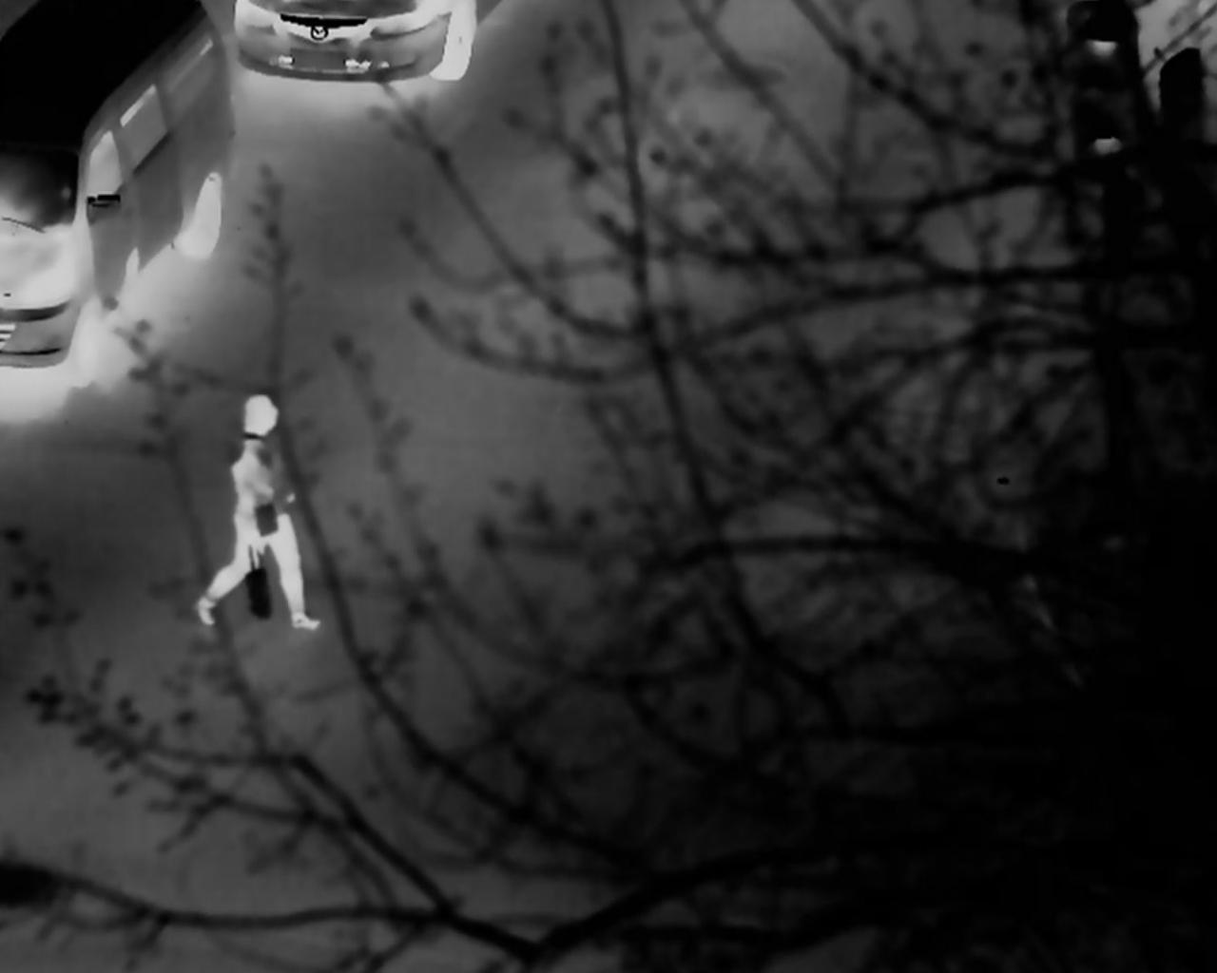person: (199, 392, 311, 637)
